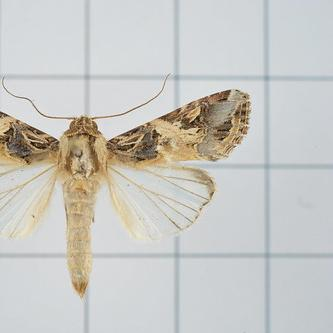Spodoptera litura: (1, 72, 251, 299)
